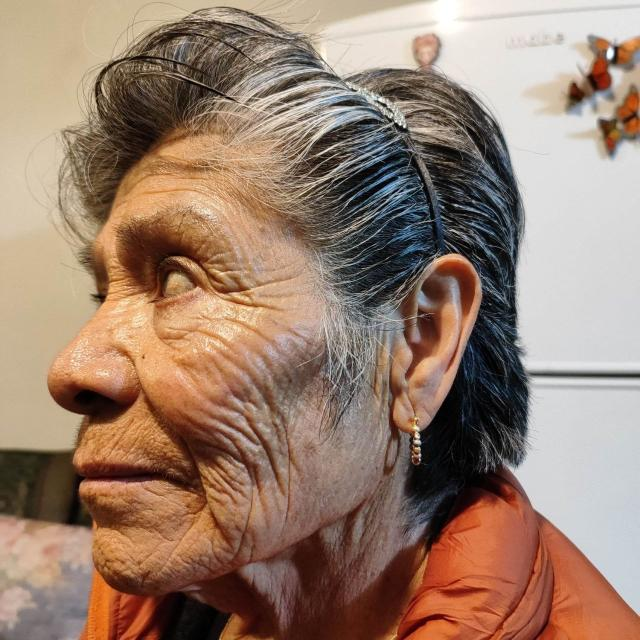ear: (391, 254, 481, 432)
